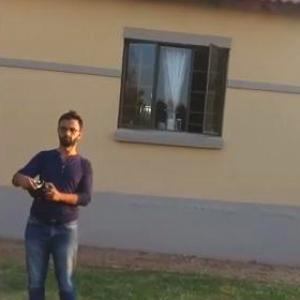follow: (9, 100, 99, 299)
